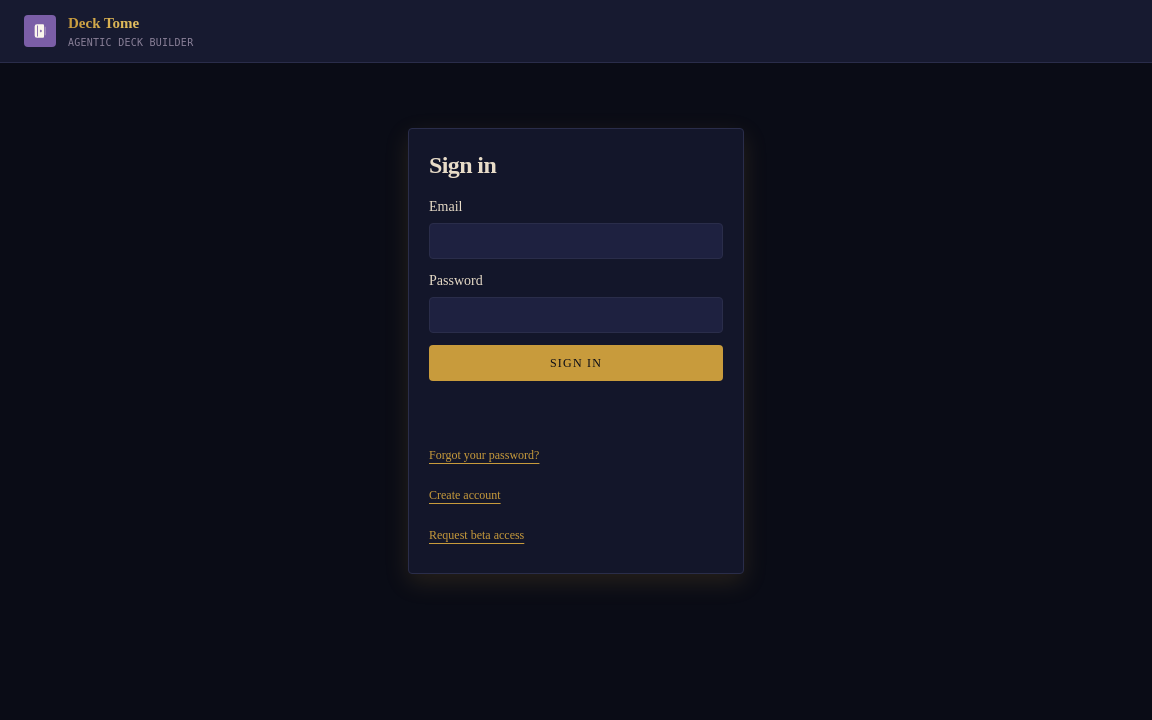
it: SignInPage › shows a readable message for a Firebase error
Type "nate@example.com" into the field labelled "Email" at (576, 240), box 429,222 -> 723,258
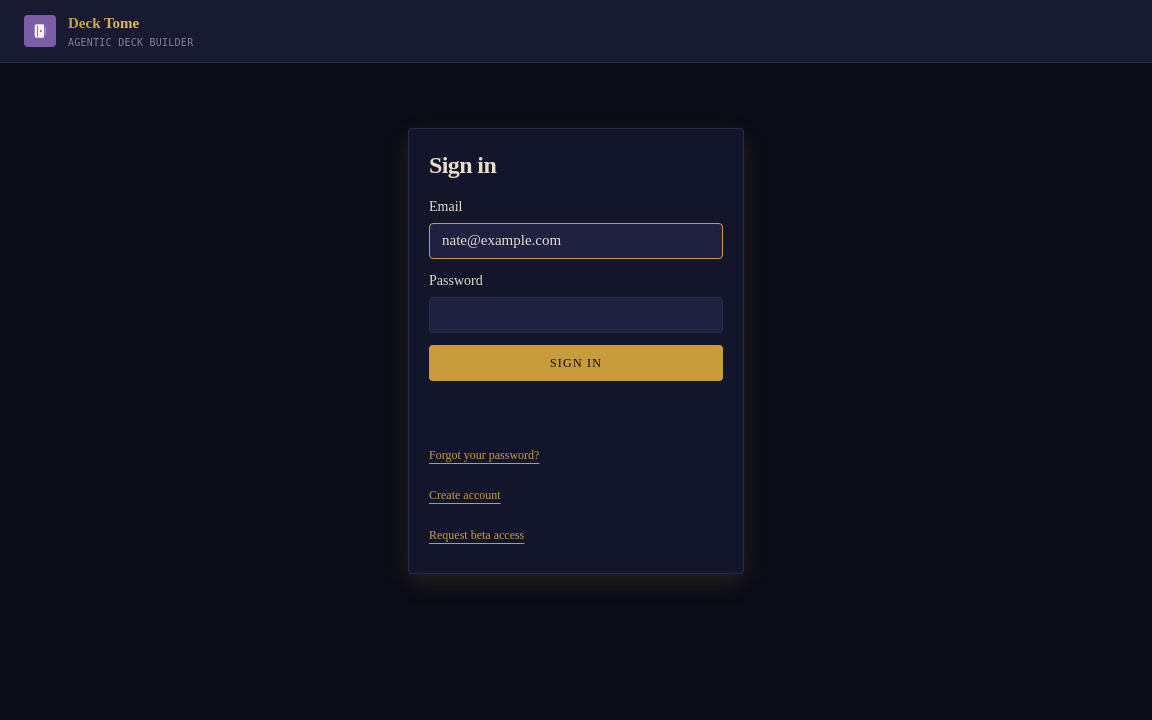
Type "wrong12" into the password field labelled "Password" at (576, 314), box 429,296 -> 723,332
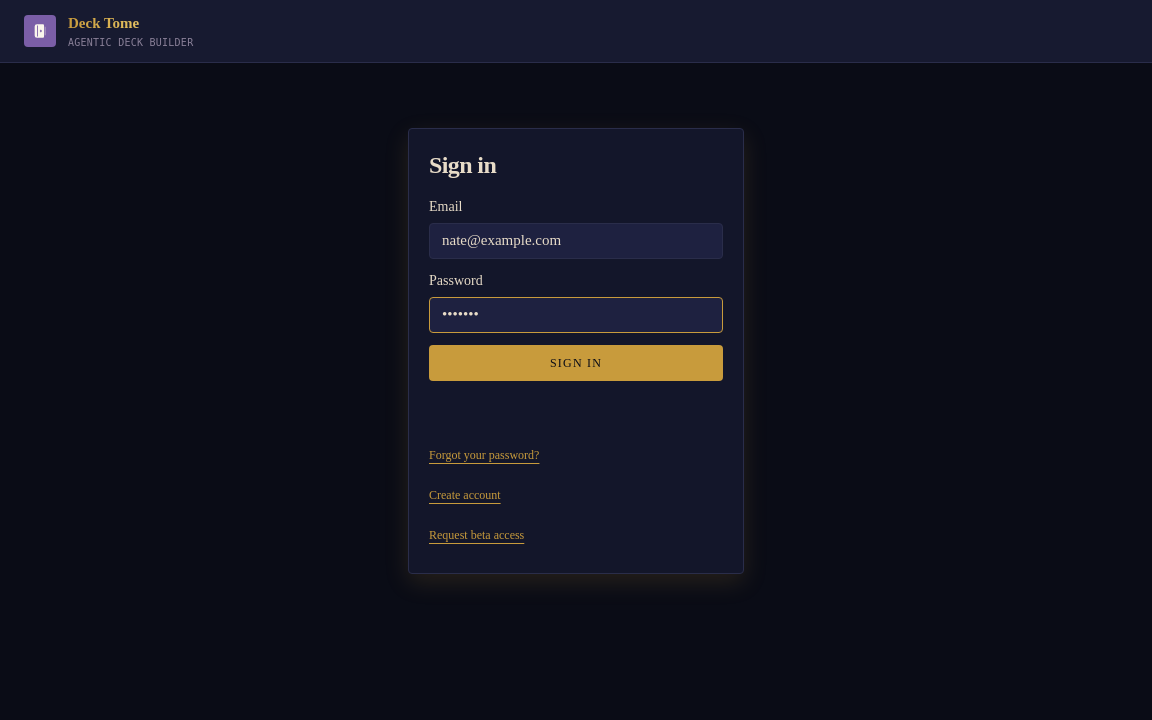
Click the button "Sign in" at (576, 362), box 429,344 -> 723,380
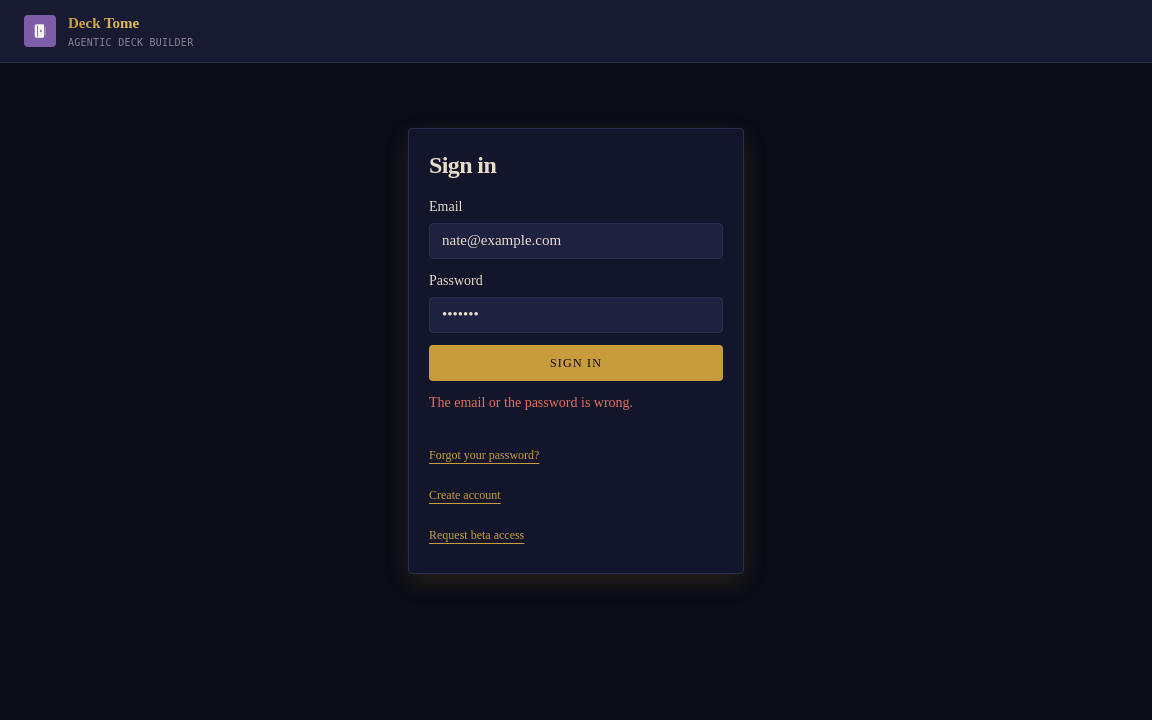
Expected: the message reads "The email or the password is wrong.", 429,394 -> 633,410
